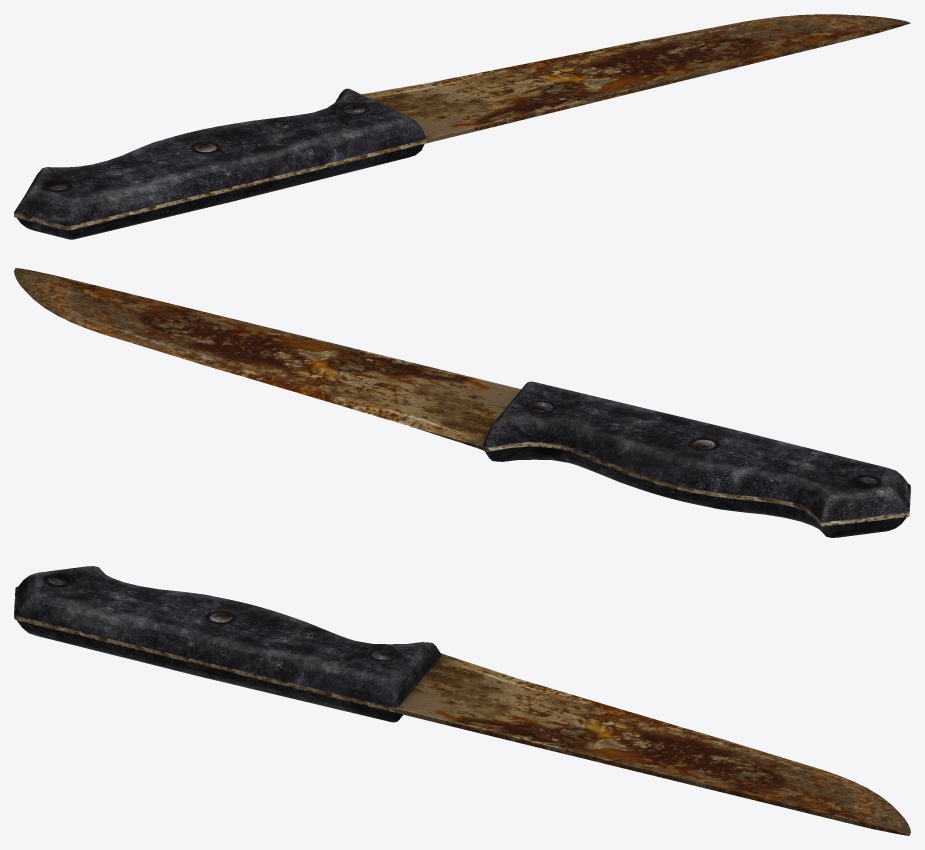
Rendered from KNIFE.fbx.
3 views of the same model, one above another, from view 1: azimuth 30°, elevation 25°; view 2: azimuth 150°, elevation 25°; view 3: azimuth 330°, elevation 25° (orthographic). The views are drawn at different scales.
Visible parts, largest first — view 1: KNIFE; view 2: KNIFE; view 3: KNIFE.
Part boxes in pixels (x1,y1,x2,y2): KNIFE: [14, 14, 910, 239]; KNIFE: [14, 268, 910, 537]; KNIFE: [14, 566, 910, 835].
Size of the model in its own units: 1.9 by 0.0821 by 0.2433.
1 material, 1 textured.
